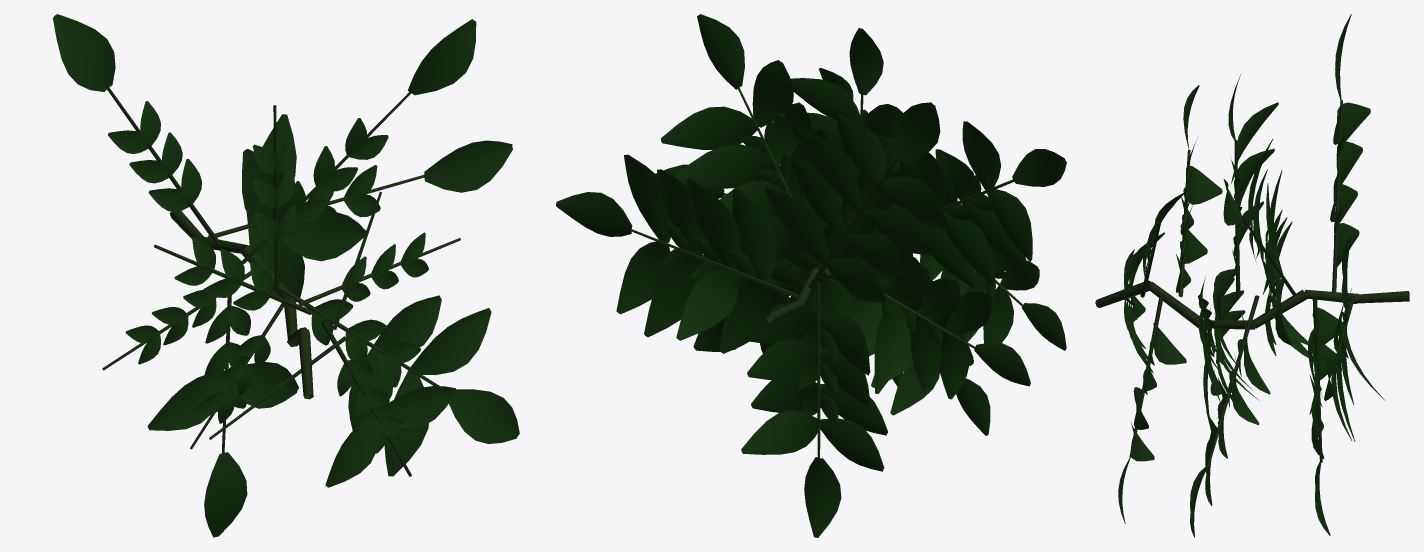
The model's file is tomato_plant_vegetative_2.obj.
3 renders of one model, left to right at view 1: azimuth 30°, elevation 25°; view 2: azimuth 150°, elevation 25°; view 3: azimuth 270°, elevation 25°, orthographic. The views are drawn at different scales.
Parts seen in each view (by area): view 1: p_leaves, p_stem; view 2: p_leaves, p_stem; view 3: p_leaves, p_stem.
Boxes of the visible parts, x1,y1,x2,y2 form: p_leaves: (53,14,519,537); p_stem: (102,87,460,476); p_leaves: (556,14,1066,537); p_stem: (630,88,1022,458); p_leaves: (1118,14,1384,537); p_stem: (1095,100,1409,467).
Bounding box in the file's own units: 0.9548 × 0.9773 × 0.6015.
